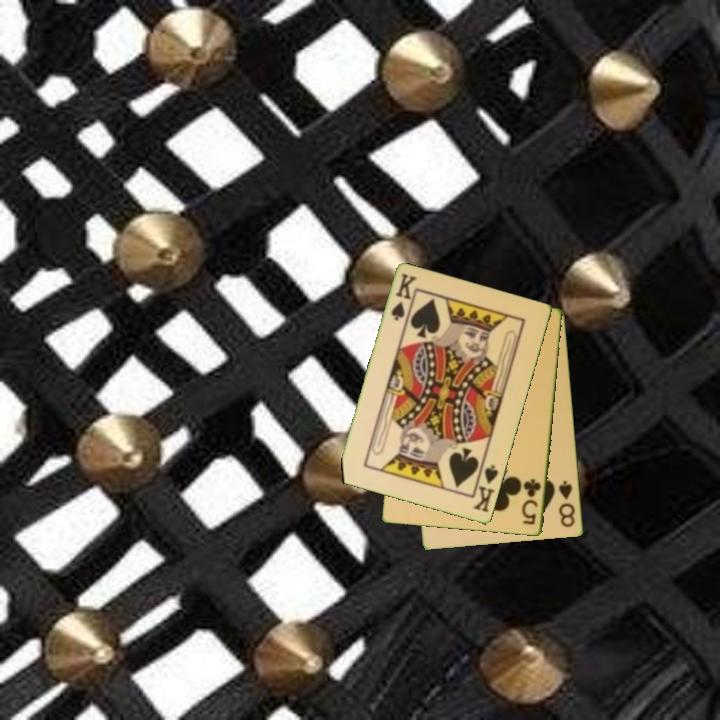5c: (519, 475, 544, 528)
8s: (556, 477, 578, 530)
Ks: (470, 459, 501, 515), (388, 270, 419, 324)
